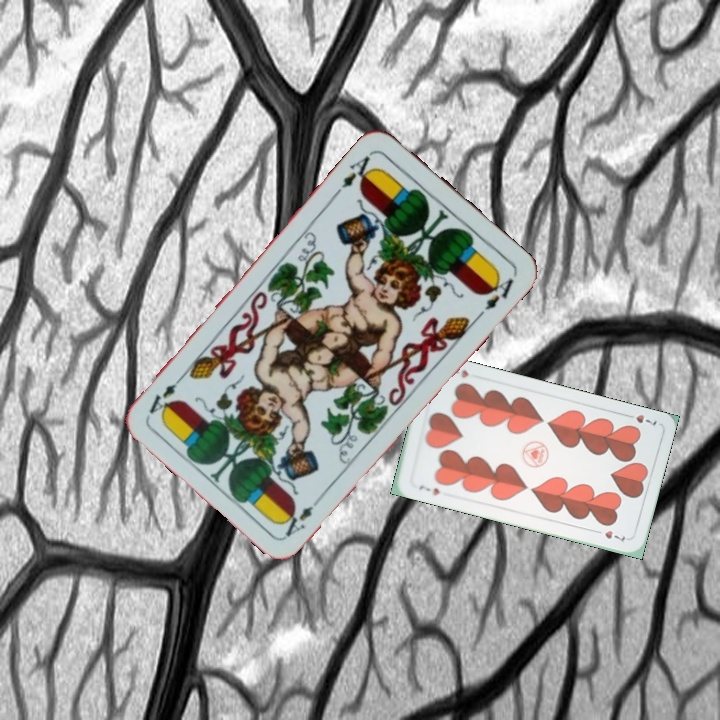EA: (278, 490, 326, 539), (332, 148, 377, 197)
H7: (621, 410, 659, 428), (415, 481, 442, 498)
